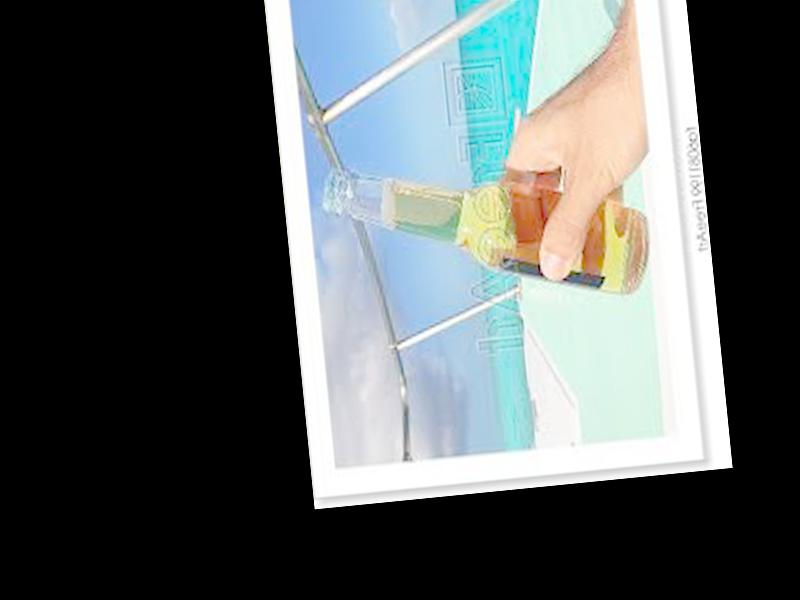Beer: (321, 131, 650, 325)
